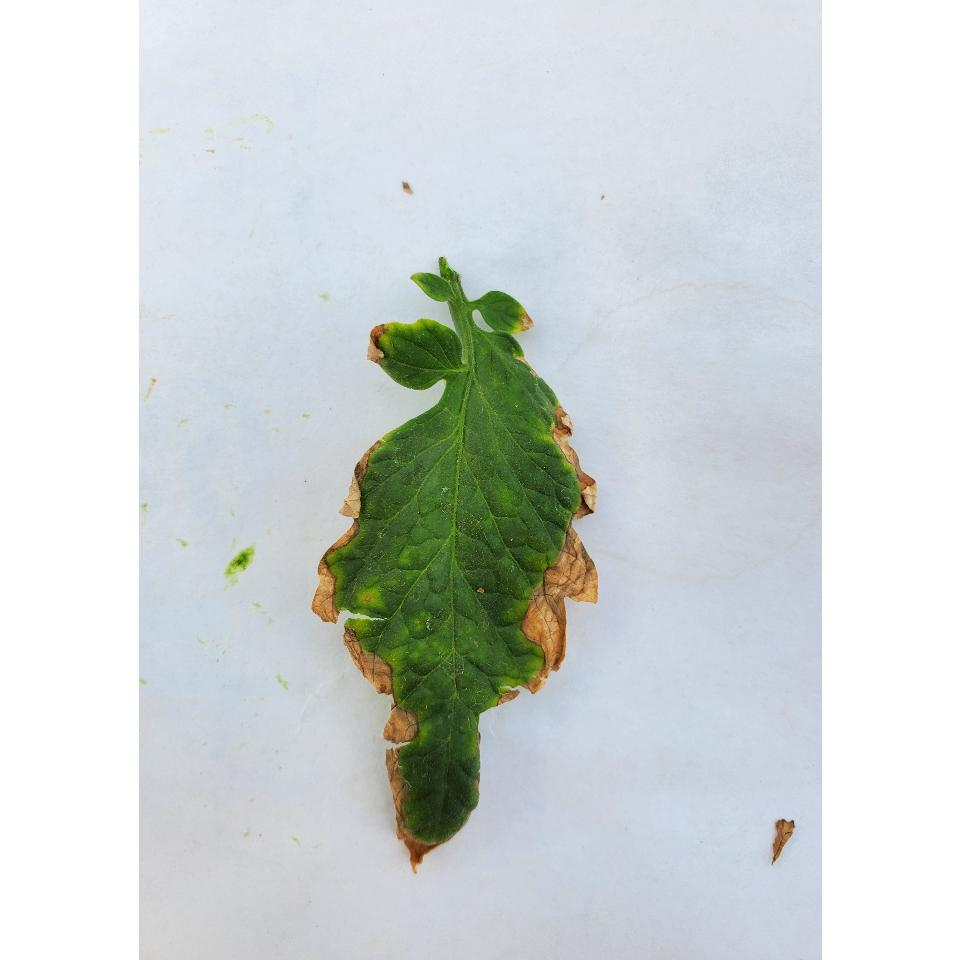tomato_bacterial_blight: (323, 236, 613, 862)
